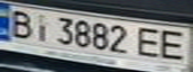2: (109, 21, 133, 56)
3: (51, 15, 75, 47)
8: (90, 20, 112, 52), (72, 18, 93, 50)
B: (3, 7, 36, 39)
E: (154, 26, 193, 64), (133, 25, 169, 61)
I: (30, 11, 57, 43)
